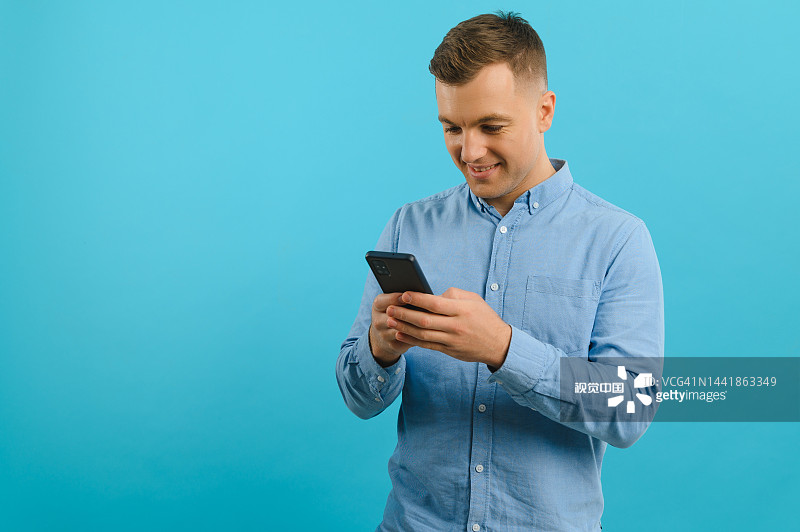reading: (341, 238, 504, 388)
